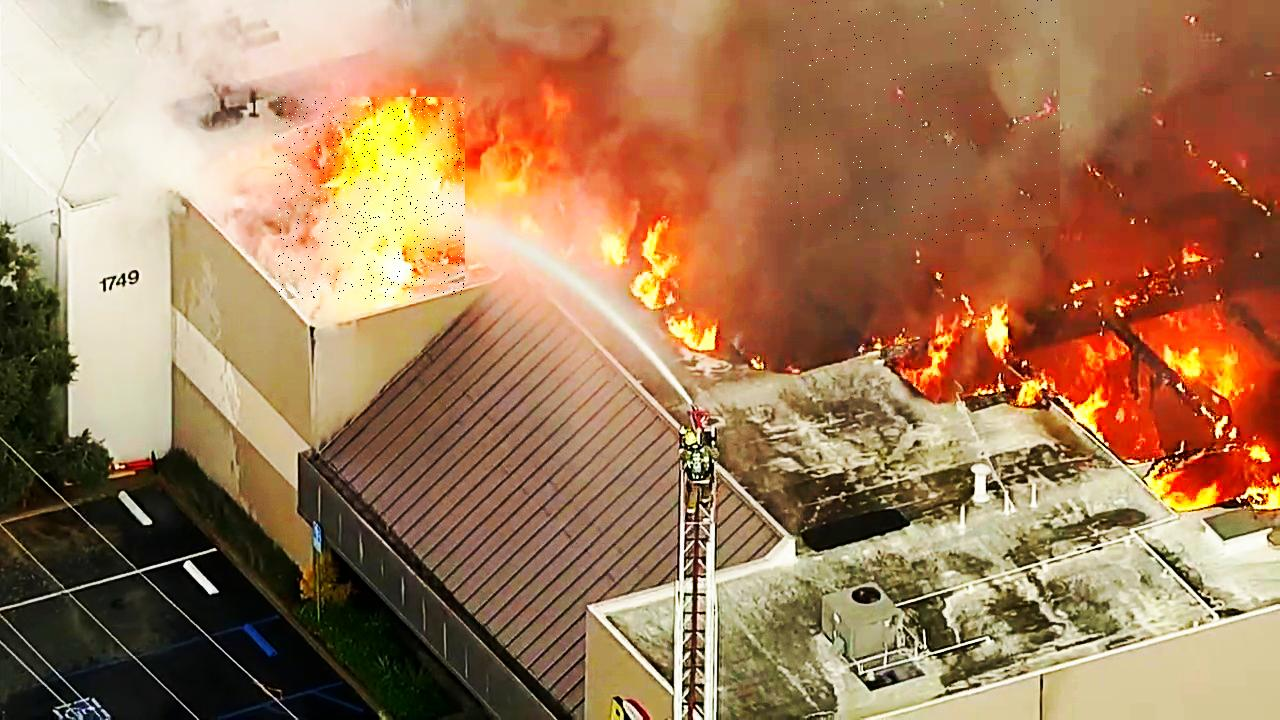fire: (275, 97, 465, 299)
smoke: (780, 0, 1060, 248)
